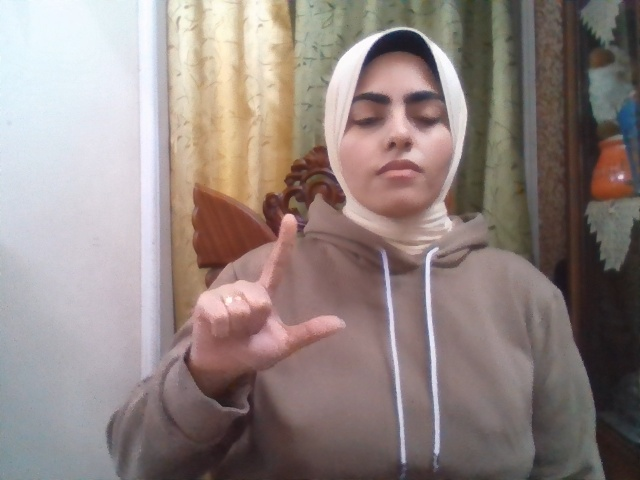L: (191, 212, 348, 380)
